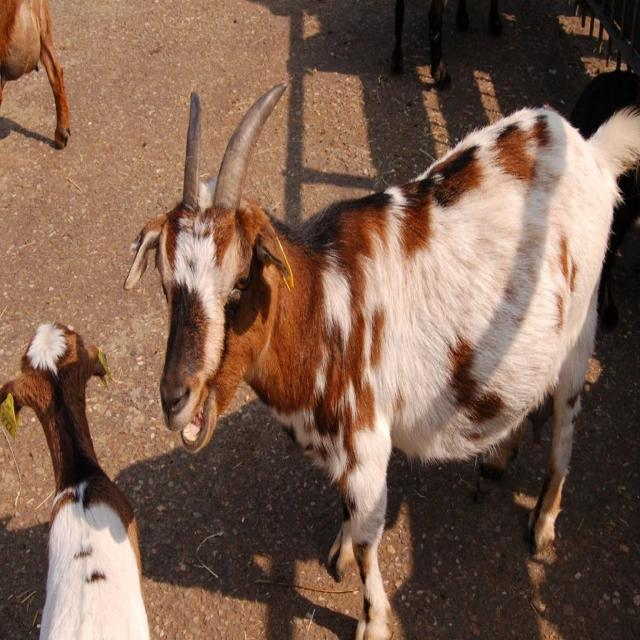Goat: (126, 88, 640, 640), (0, 318, 148, 640)
